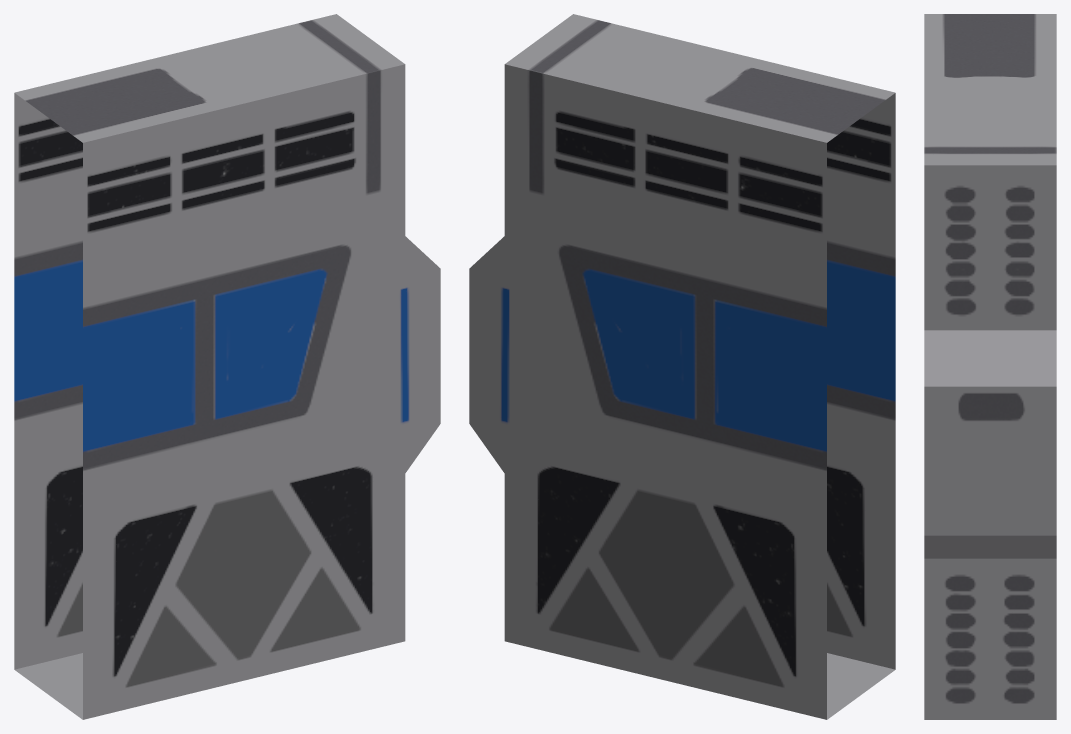
Rendered from PortaoA_1.fbx.
3 renders of one model, left to right at view 1: azimuth 30°, elevation 25°; view 2: azimuth 150°, elevation 25°; view 3: azimuth 270°, elevation 25°, orthographic. The views are drawn at different scales.
Parts seen in each view (by area): view 1: PortaoA_1; view 2: PortaoA_1; view 3: PortaoA_1.
Part boxes in pixels (x1,y1,x2,y2): PortaoA_1: (14,14,440,719); PortaoA_1: (469,14,895,719); PortaoA_1: (924,14,1056,719).
Bounding box in the file's own units: 183 × 281 × 60.71.
